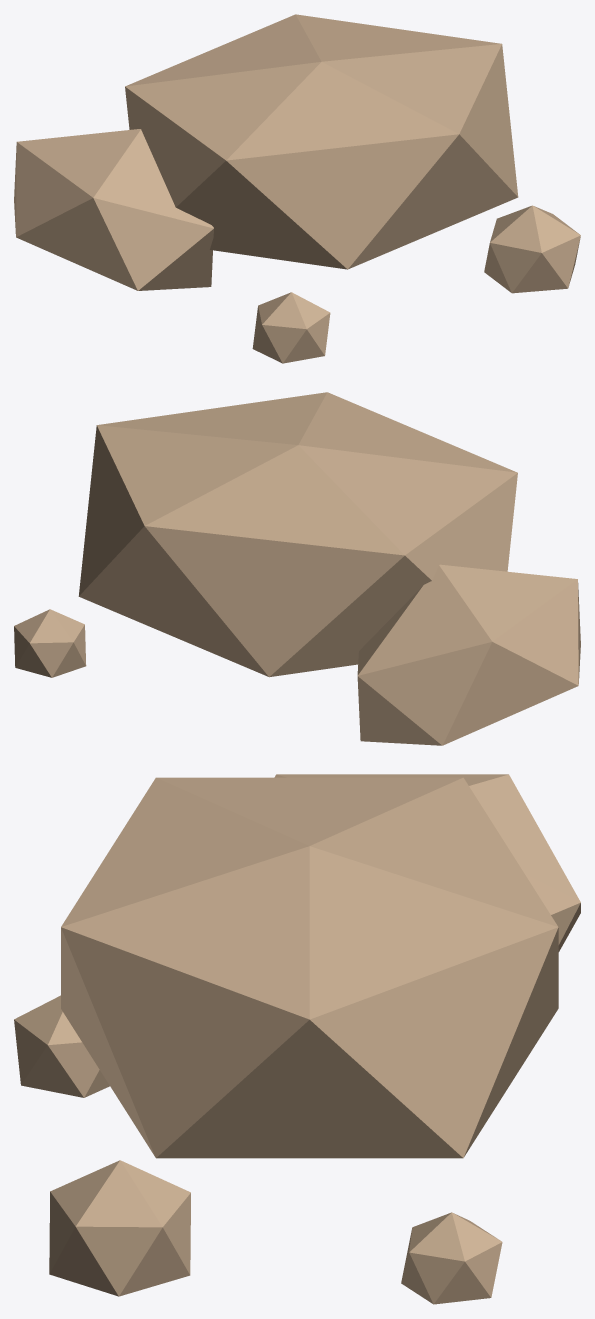
The model's file is rock.glb.
3 views of the same model, one above another, from view 1: azimuth 30°, elevation 25°; view 2: azimuth 150°, elevation 25°; view 3: azimuth 270°, elevation 25° (orthographic). The views are drawn at different scales.
Visible parts, largest first — view 1: Desert_Rock; view 2: Desert_Rock; view 3: Desert_Rock.
Boxes of the visible parts, bbox=[...] form: Desert_Rock: bbox=[14, 14, 580, 363]; Desert_Rock: bbox=[14, 392, 580, 745]; Desert_Rock: bbox=[14, 774, 580, 1304].
Size of the model in its own units: 3.57 by 1.44 by 2.39.
